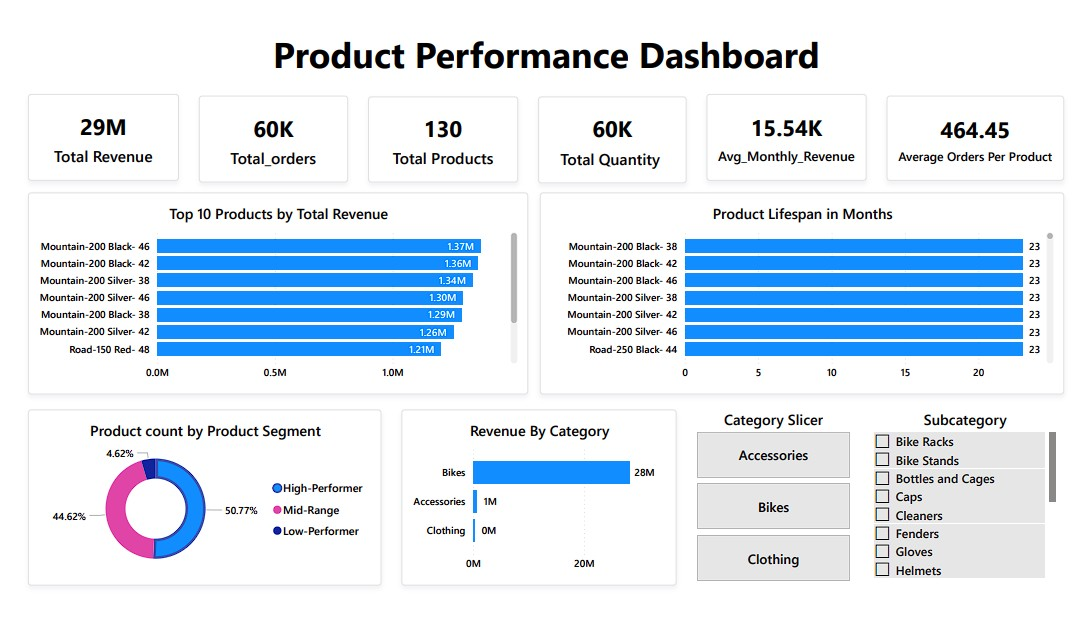

What the dashboard file says about the page in this screenshot:
{"tool":"powerbi","page":{"name":"Product Performance Dashboard","canvas":[1280,720],"ordinal":2},"visuals":[{"type":"card","fields":{"Values":["Sum(report_customers.total_sales)"]},"box":[17.7,97.5,181,103.8],"z":0},{"type":"card","fields":{"Values":["Avg(report_products.average_monthly_revenue)"]},"box":[831.9,97.5,192.4,103.8],"z":1000},{"type":"card","fields":{"Values":["Count(report_products.product_key)"]},"box":[426.1,100,179.7,102.5],"z":2000},{"type":"card","fields":{"Values":["Sum(report_products.total_orders)"]},"box":[222.5,98.7,179.7,103.8],"z":3000},{"type":"card","fields":{"Values":["Sum(report_customers.total_quantity)"]},"box":[629.6,100,178.5,103.8],"z":4000},{"type":"card","fields":{"Values":["report_products.Average Orders Per Product"]},"box":[1048.1,98.7,212.7,102.5],"z":5000},{"type":"textbox","box":[259.6,15.2,760.8,68.4],"z":6000},{"type":"barChart","title":"Product Lifespan in Months","fields":{"Y":["Sum(report_products.lifespan)"],"Category":["report_products.product_name"]},"box":[631.6,215.2,629.1,241.8],"z":7000},{"type":"barChart","title":"Top 10 Products by Total Revenue","fields":{"Category":["report_products.product_name"],"Y":["Sum(report_products.total_sales)"]},"box":[17.7,215.2,600,241.8],"z":8000},{"type":"advancedSlicerVisual","title":"Category Slicer","fields":{"Values":["report_products.category"]},"box":[816.5,474.7,192.4,211.4],"z":9000},{"type":"listSlicer","title":"Subcategory","fields":{"Values":["report_products.subcategory"]},"box":[1029.1,474.7,226.6,211.4],"z":10000},{"type":"donutChart","title":"Product count by Product Segment","fields":{"Category":["report_products.product_segment"],"Y":["Count(report_products.product_key)"]},"box":[17.7,474.7,424.1,211.4],"z":11000},{"type":"barChart","title":"Revenue By Category","fields":{"Y":["Sum(report_products.total_sales)"],"Category":["report_products.category"]},"box":[465.8,474.7,330.4,211.4],"z":12000}]}

Visuals, with their boxes in screenshot pixels (x1, y1, x2, y2), scaled from the page's 1280x720 canvas onto the 1092x625 screenshot:
card - Sum(report_customers.total_sales): pyautogui.locateOnScreen(15, 85, 170, 175)
card - Avg(report_products.average_monthly_revenue): pyautogui.locateOnScreen(710, 85, 874, 175)
card - Count(report_products.product_key): pyautogui.locateOnScreen(364, 87, 517, 176)
card - Sum(report_products.total_orders): pyautogui.locateOnScreen(190, 86, 343, 176)
card - Sum(report_customers.total_quantity): pyautogui.locateOnScreen(537, 87, 689, 177)
card - report_products.Average Orders Per Product: pyautogui.locateOnScreen(894, 86, 1076, 175)
textbox: pyautogui.locateOnScreen(221, 13, 871, 73)
"Product Lifespan in Months" barChart: pyautogui.locateOnScreen(539, 187, 1076, 397)
"Top 10 Products by Total Revenue" barChart: pyautogui.locateOnScreen(15, 187, 527, 397)
"Category Slicer" advancedSlicerVisual: pyautogui.locateOnScreen(697, 412, 861, 596)
"Subcategory" listSlicer: pyautogui.locateOnScreen(878, 412, 1071, 596)
"Product count by Product Segment" donutChart: pyautogui.locateOnScreen(15, 412, 377, 596)
"Revenue By Category" barChart: pyautogui.locateOnScreen(397, 412, 679, 596)
